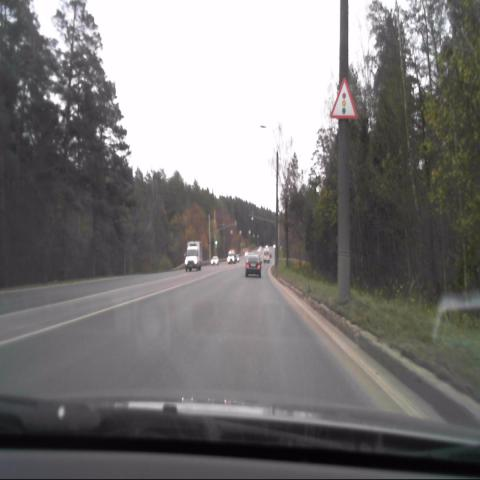1_8: (330, 79, 357, 122)
